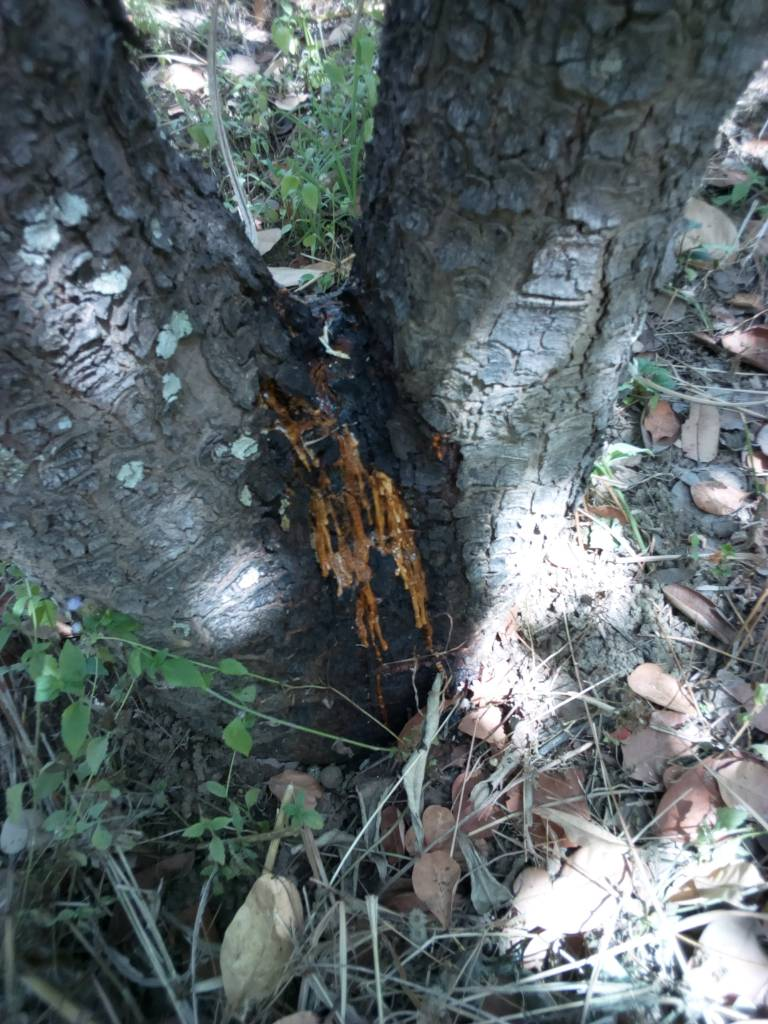Gommose: (252, 300, 468, 719)
